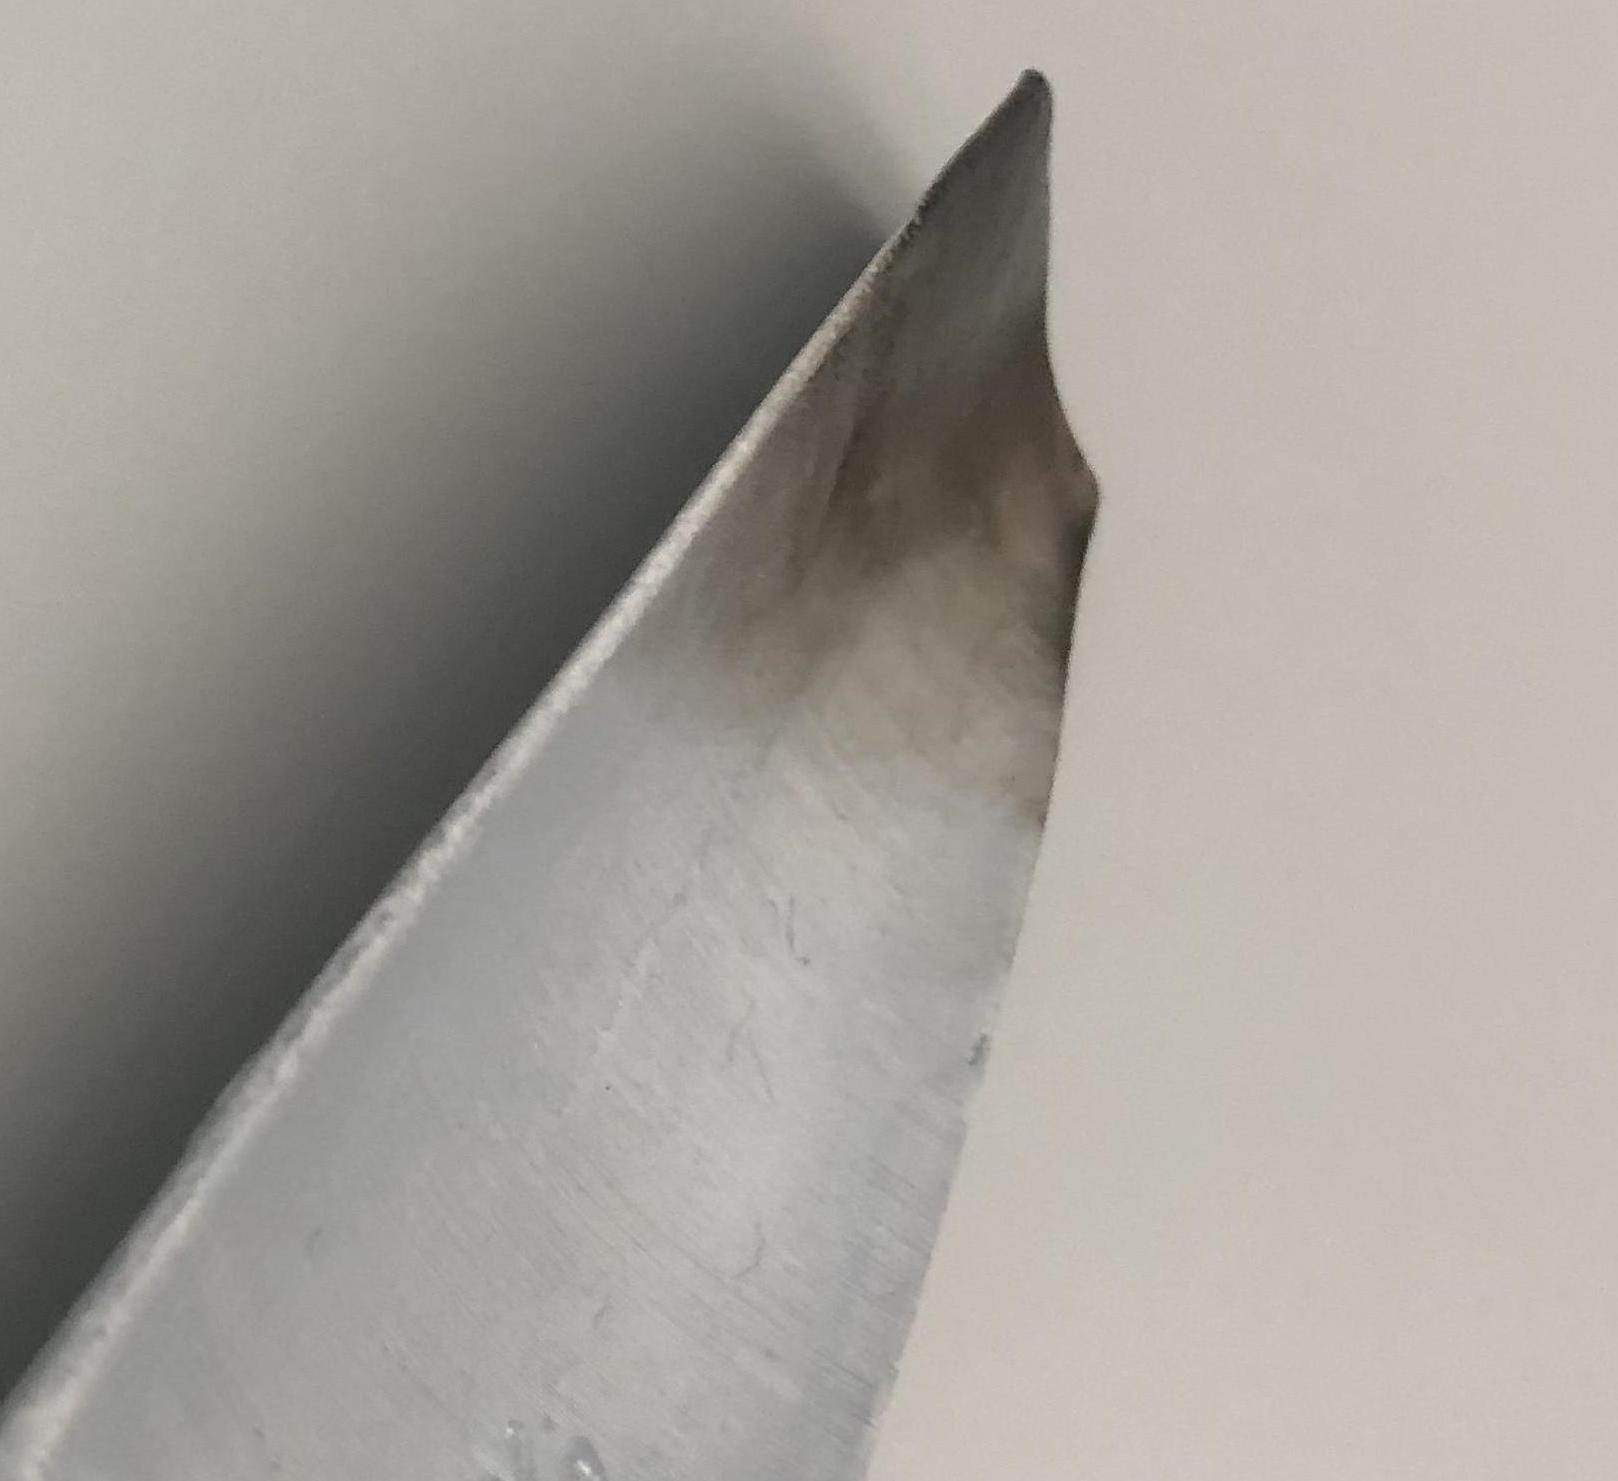ablation: (870, 217, 1073, 643)
